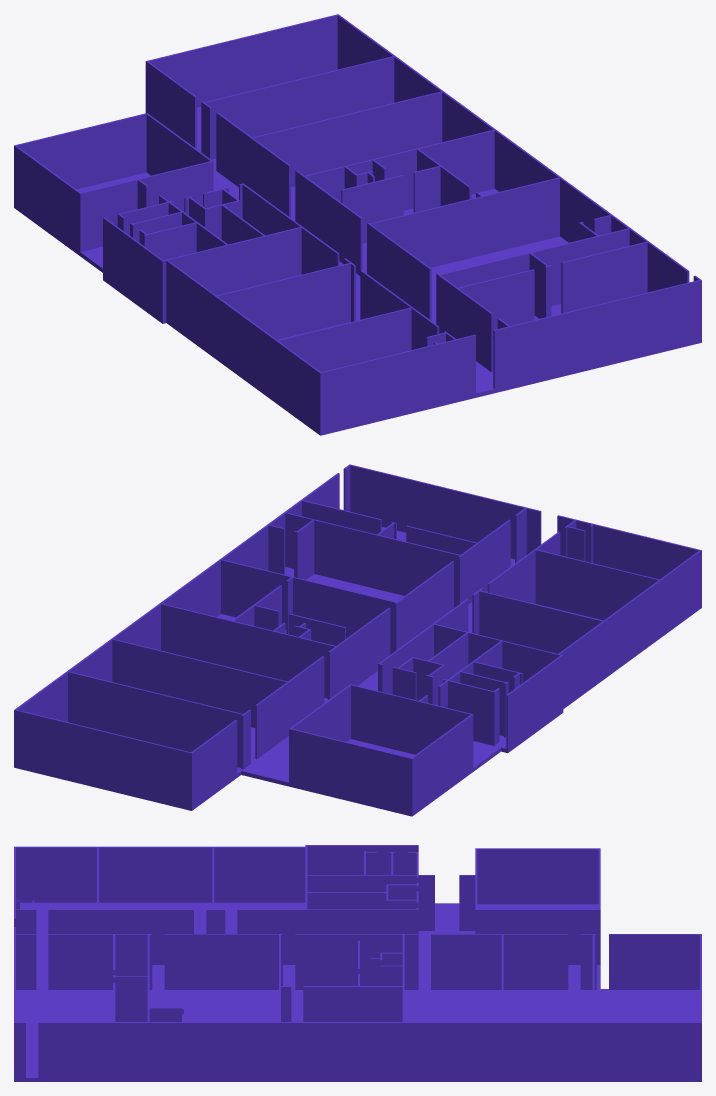
File: DepewFloorPlan.glb
The picture shows the model from 3 angles, top to bottom: view 1: azimuth 30°, elevation 25°; view 2: azimuth 150°, elevation 25°; view 3: azimuth 270°, elevation 25°; orthographic projection. The views are drawn at different scales.
Visible parts, largest first — view 1: Solid1; view 2: Solid1; view 3: Solid1.
Boxes of the visible parts, x1,y1,x2,y2 form: Solid1: [14, 14, 701, 435]; Solid1: [14, 464, 701, 816]; Solid1: [14, 845, 701, 1081].
Bounding box in the file's own units: 2.64 × 0.4089 × 4.32.
